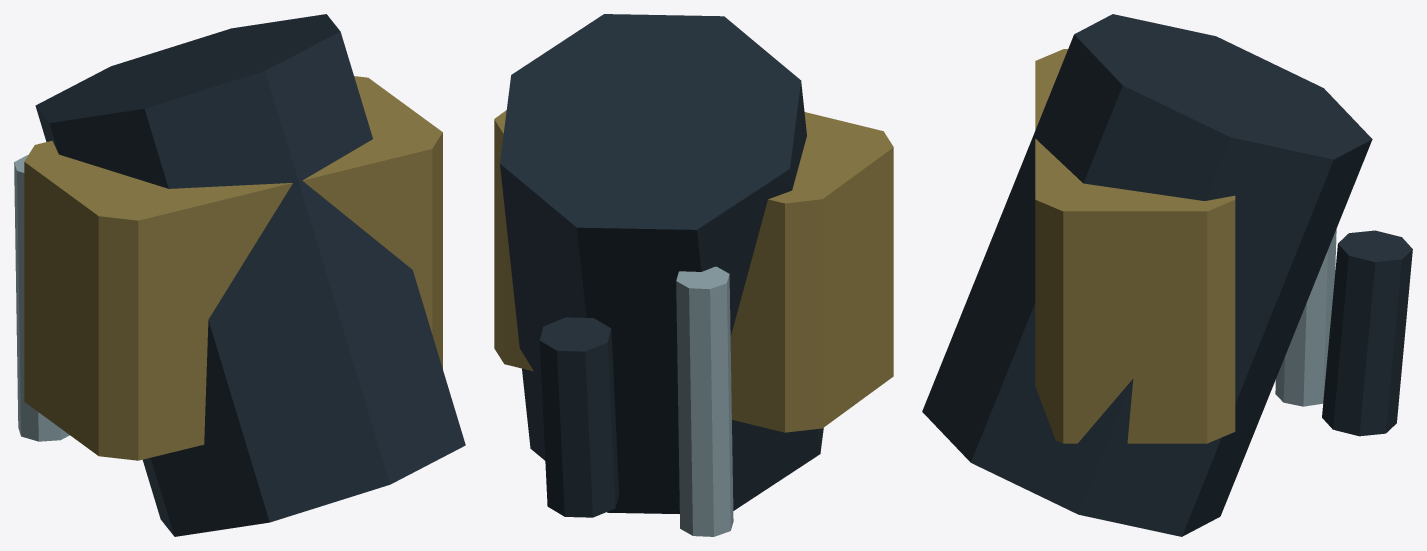
File: enemy_gunner_thigh_r.obj
3 renders of one model, left to right at view 1: azimuth 30°, elevation 25°; view 2: azimuth 150°, elevation 25°; view 3: azimuth 270°, elevation 25°, orthographic. The views are drawn at different scales.
Bounding box in the file's own units: 0.5035 × 0.6346 × 0.6133.
